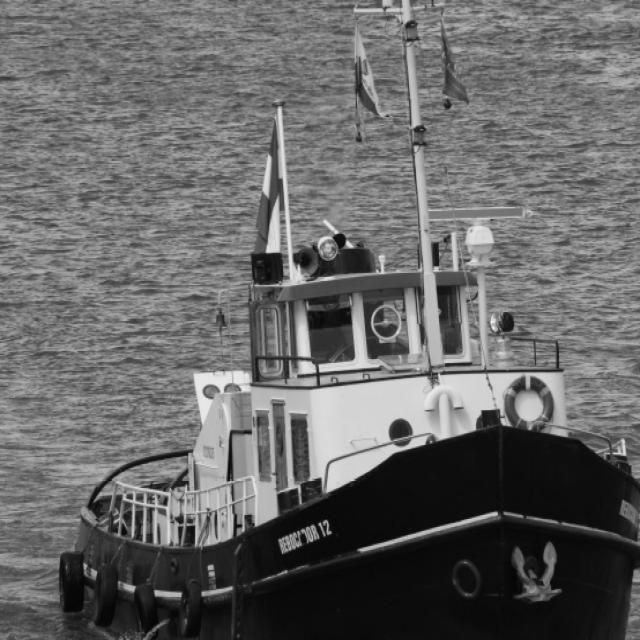tugboat: (55, 1, 640, 640)
